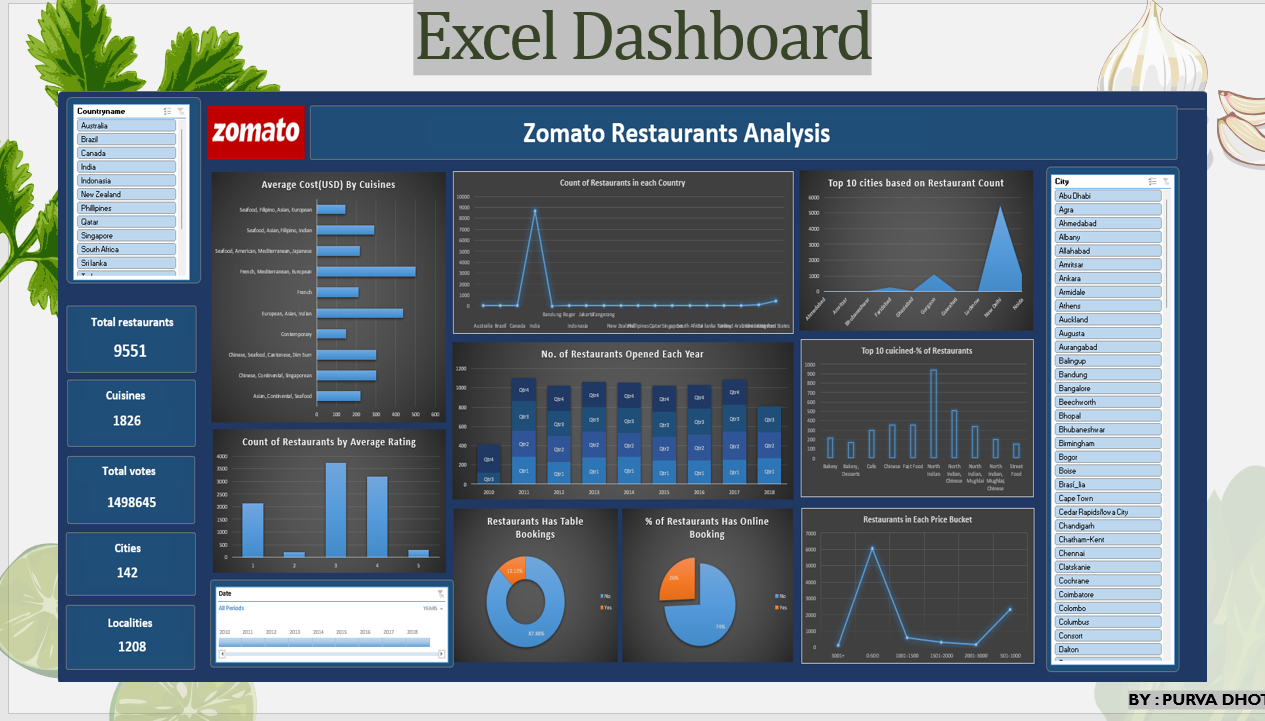

This screenshot's page, from the dashboard's own definition file:
{"tool":"tableau","page":{"name":"Dashboard 1","canvas":[1000,1000],"units":"permille","ordinal":0},"visuals":[{"type":"dashboard-object","box":[877.2,9.4,116,63]},{"type":"title","box":[4.8,9.9,893.8,62.9]},{"type":"text","box":[898.6,9.9,96.6,22.2]},{"type":"image","param":"Image/Zomato image.png","box":[10.6,12.1,149.6,59]},{"type":"worksheet","title":"CUSINES","mark":"Automatic","rows":["Cuisines"],"cols":["RestaurantID"],"box":[791.8,89.9,206.4,496.9]},{"type":"worksheet","title":"KPI 1","mark":"Automatic","box":[9.1,90,166.6,138.1]},{"type":"worksheet","title":"KPI 2 ","mark":"Automatic","box":[178,90,166.6,138.1]},{"type":"worksheet","title":"KPI 3","mark":"Automatic","box":[347,90,177.4,138.1]},{"type":"filter","title":"1","param":"[federated.1c66vmg1hbwwpp16xe0wp0gmyl41].[none:country name:nk]","box":[531.1,91.2,125.5,134.4]},{"type":"filter","title":"1","param":"[federated.1c66vmg1hbwwpp16xe0wp0gmyl41].[yr:Datekey_Opening:ok]","box":[661.4,91.2,127.9,131.9]},{"type":"worksheet","title":"RATING","mark":"Automatic","rows":["Rating (bin)"],"cols":["RestaurantID"],"box":[557.6,233.1,232.3,360.1]},{"type":"worksheet","title":"AVG","mark":"Bar","rows":["RestaurantID"],"cols":["country name"],"box":[288.9,233.7,264,356.9]},{"type":"worksheet","title":"RM","mark":"Automatic","rows":["RestaurantID"],"cols":["opening date"],"box":[4.2,236,279.4,357.1]},{"type":"worksheet","title":"1","mark":"Automatic","box":[2.7,599.6,376,394.9]},{"type":"worksheet","title":"ONLINE","mark":"Pie","box":[389.3,599.6,309.3,389.5]},{"type":"worksheet","title":"TABLE","mark":"Pie","box":[704.9,599.6,295.1,391.3]}]}

Visuals, with their boxes on the dashboard's canvas, which has no fixed pixel size, in thousandths of its width and height (x1, y1, x2, y2). These are canvas units, not pixel positions in the 1265x721 screenshot, which may show the page scaled, cropped or inside an application window:
dashboard-object: 877:9:993:72
title: 5:10:899:73
text: 899:10:995:32
image: 11:12:160:71
"CUSINES" worksheet: 792:90:998:587
"KPI 1" worksheet: 9:90:176:228
"KPI 2 " worksheet: 178:90:345:228
"KPI 3" worksheet: 347:90:524:228
"1" filter: 531:91:657:226
"1" filter: 661:91:789:223
"RATING" worksheet: 558:233:790:593
"AVG" worksheet (Bar marks): 289:234:553:591
"RM" worksheet: 4:236:284:593
"1" worksheet: 3:600:379:994
"ONLINE" worksheet (Pie marks): 389:600:699:989
"TABLE" worksheet (Pie marks): 705:600:1000:991
